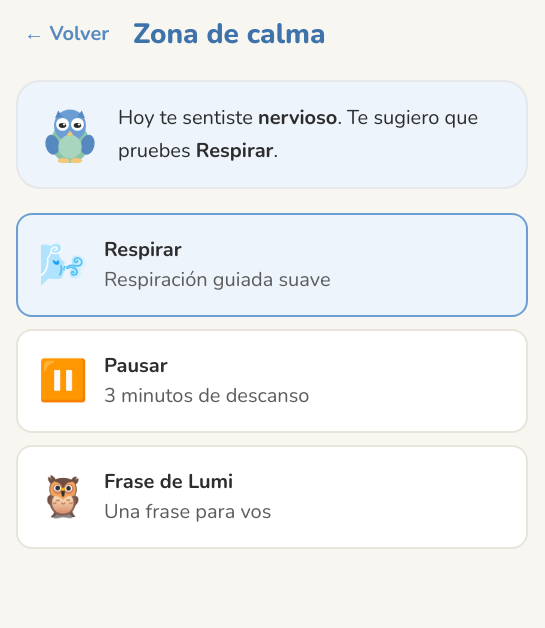
it: ZonaCalma › click en Pausar muestra el temporizador visual
This screenshot has width=545, height=628.
Click the text "Pausar": (136, 366) [104,352,168,379]
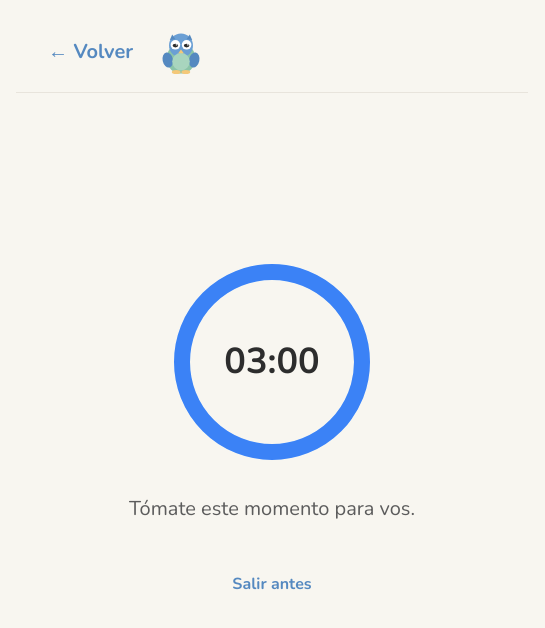
Expected: the button "Salir antes" is shown, [200,556,344,612]
